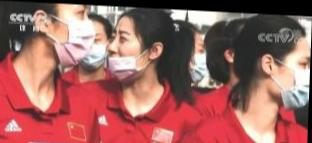OK: (56, 3, 98, 69), (276, 38, 311, 108), (77, 29, 109, 69), (187, 39, 210, 81)
WRONG: (108, 23, 146, 80)
